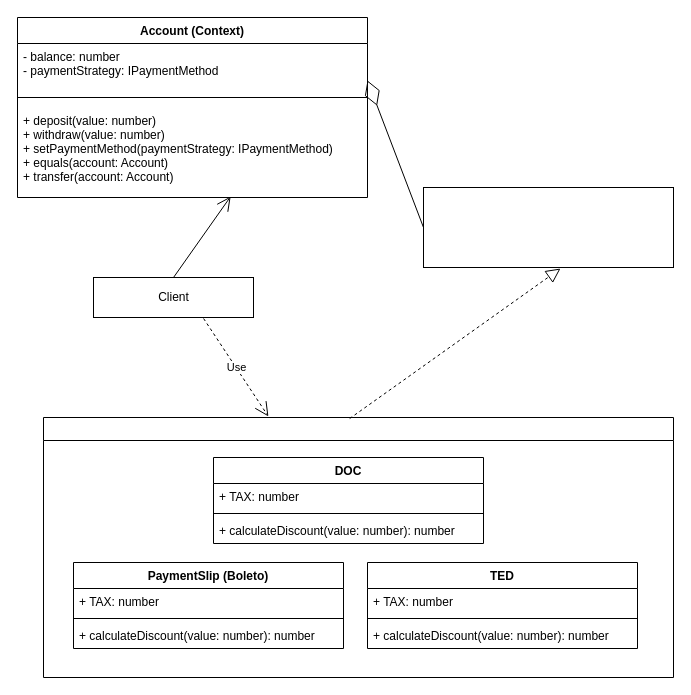
The diagram is 691 pixels wide and 695 high, and some of its shapes have lost their labels. The shapes that lost their labels are listed below. From the top down, each one's centre as x and y in pixels, then its label:
At (548,227): "<<Interface>> IPaymentMethod + calculateDiscount(value: number): number".
At (358,547): "Concrete Strategies".
